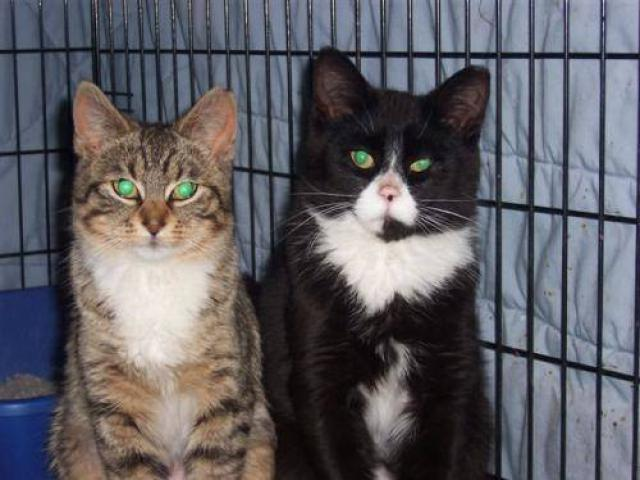cat: (266, 48, 513, 479), (50, 85, 260, 475)
